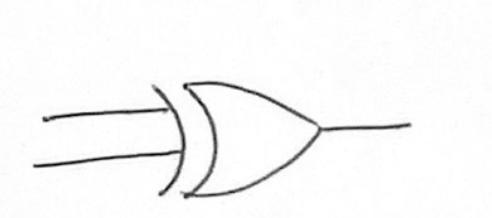XOR: (141, 71, 327, 202)
